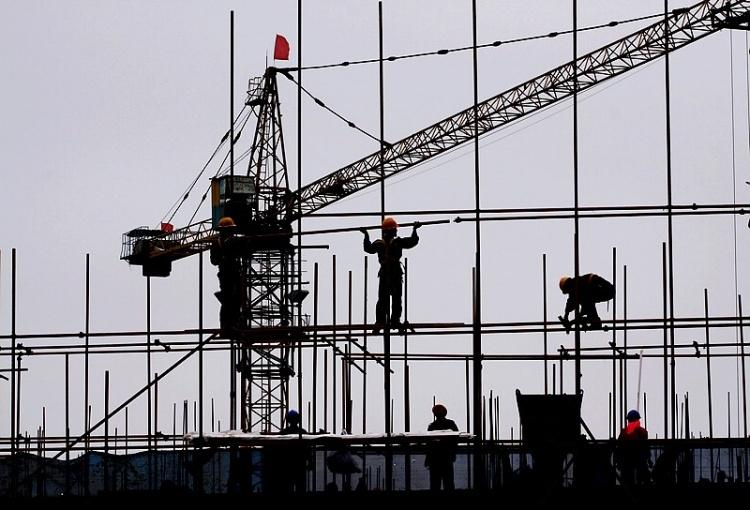Helmet: (381, 217, 398, 238)
